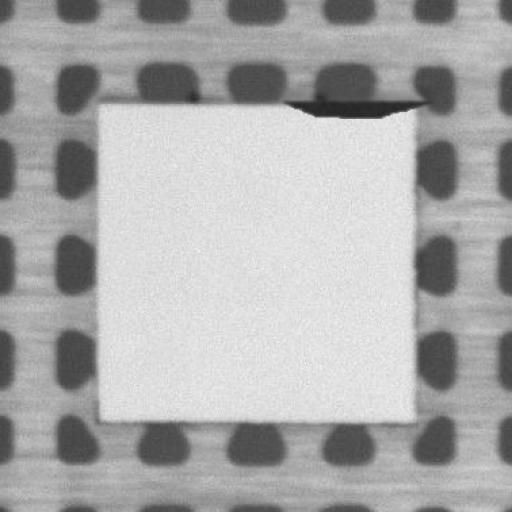DIE_BROKEN: (287, 92, 434, 120)
